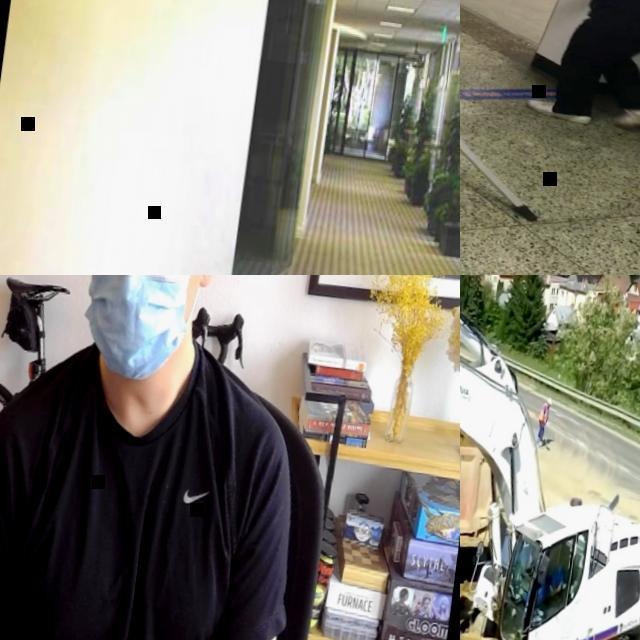helmet: (546, 396, 552, 404)
vest: (538, 402, 548, 424)
